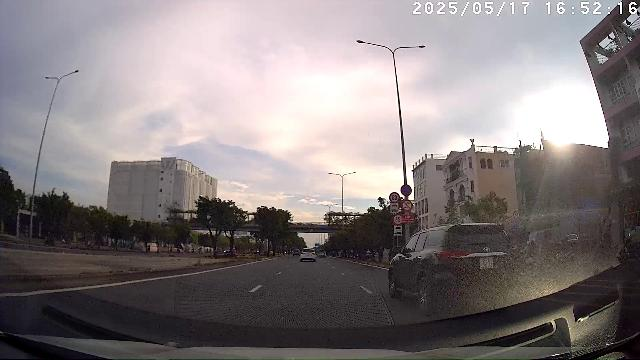127-toc-do-toi-da-60: (392, 214, 403, 225)
127-toc-do-toi-da-80: (389, 192, 400, 203)
